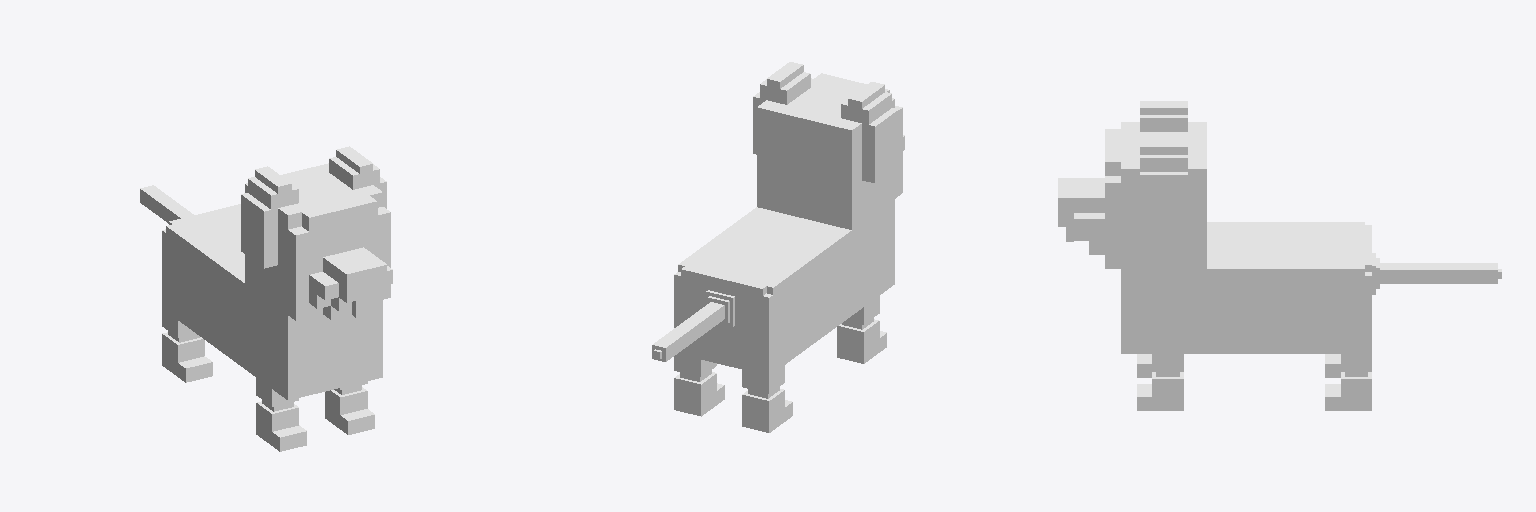
File: Dog.obj
3 views of the same model, side by side, from view 1: azimuth 30°, elevation 25°; view 2: azimuth 150°, elevation 25°; view 3: azimuth 270°, elevation 25° (orthographic).
Visible parts, largest first — view 1: Dog; view 2: Dog; view 3: Dog.
Boxes of the visible parts, box(x1,y1,x2,y2) form: Dog: box(140, 146, 392, 451); Dog: box(652, 62, 904, 432); Dog: box(1058, 101, 1501, 410).
Bounding box in the file's own units: 36 × 74 × 113.